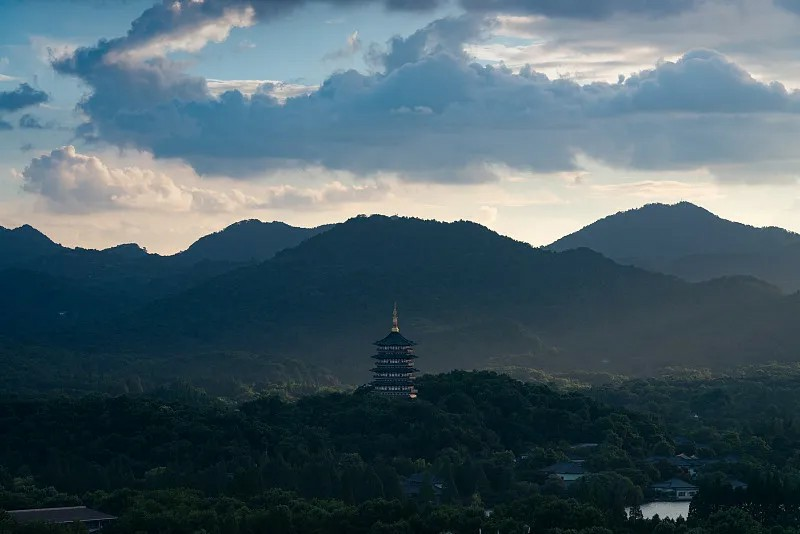Leifeng: (369, 300, 420, 401)
